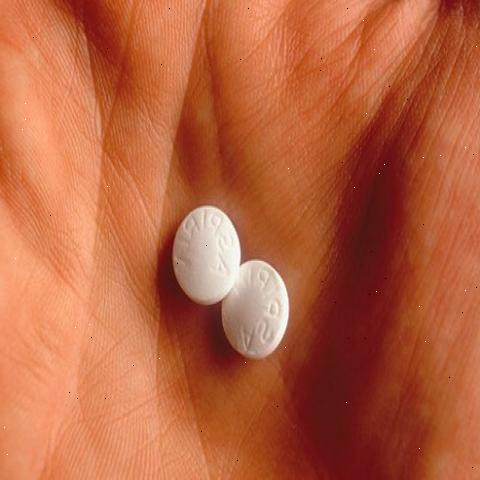Pill: (218, 250, 298, 368), (164, 200, 243, 304)
